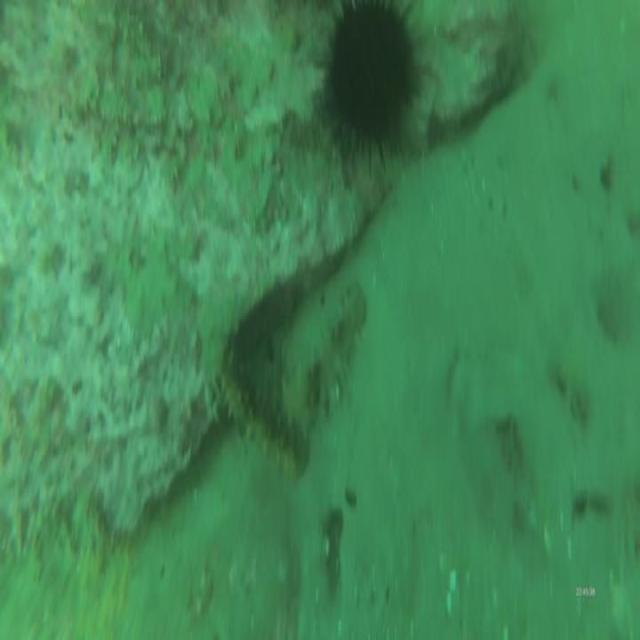echinus: (316, 0, 426, 174)
holothurian: (288, 273, 370, 438), (216, 359, 308, 491)
